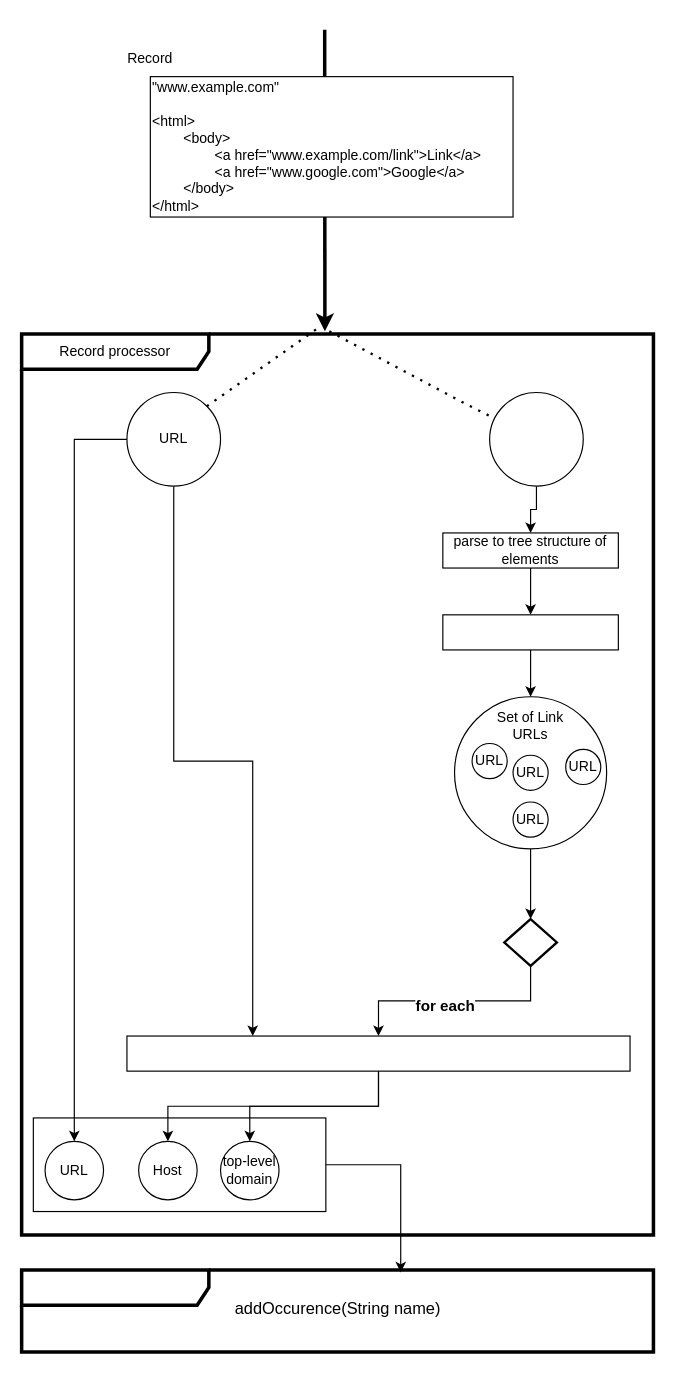
The diagram is 675 pixels wide and 1374 high, and some of its shapes have lost their labels. The box of each missing label's shape, as (x1, y1, x2, y2) in pixels:
HTML Content: (488, 391, 583, 486)
Persistence Layer: (19, 1268, 655, 1353)
regular expression lib (automata): (126, 1035, 630, 1071)
traverse tree and find links: (442, 614, 618, 650)
